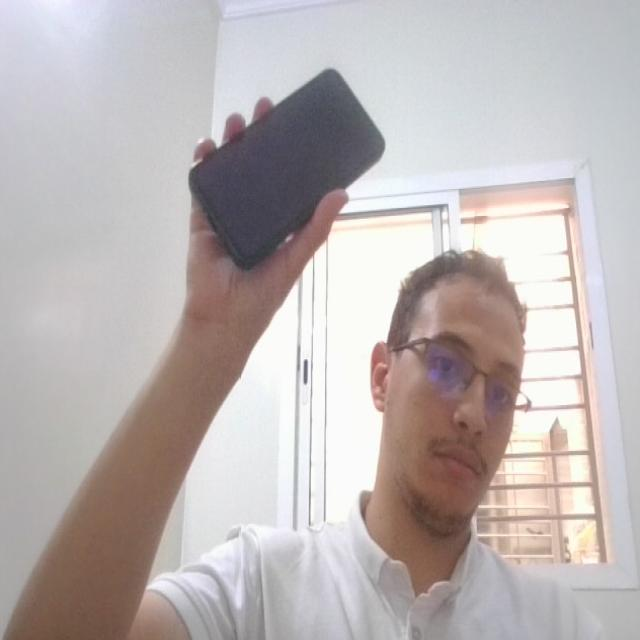phone: (182, 61, 393, 269)
